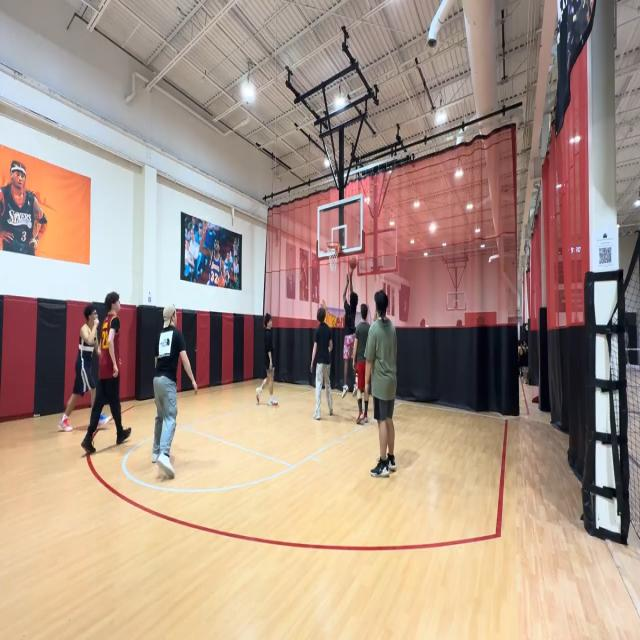Basketball: (349, 255, 357, 269)
Basketball Rim: (326, 241, 341, 273)
